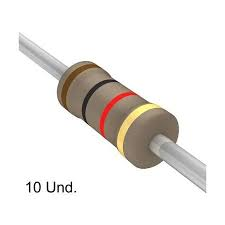resistor: (45, 57, 187, 168)
